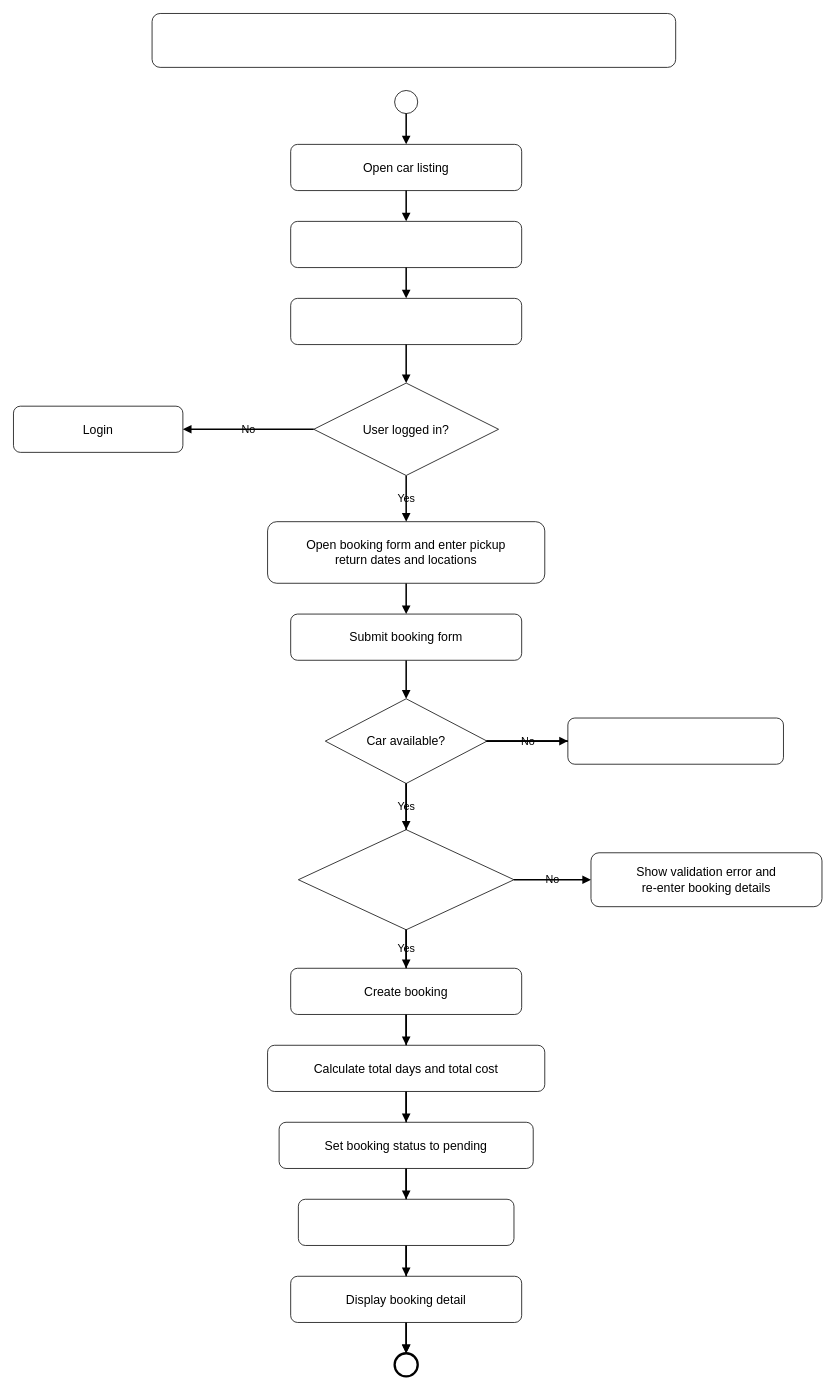
Image size: 835x1391. Some labels were removed from this diagram. The shapes that lost their labels are listed below. From the top down, each one's centre as x and y in pixels, then its label:
At (x=413, y=40): "DriveEase Car Rental System Activity Diagram for Booking Process".
At (x=406, y=244): "Apply filters and select car".
At (x=406, y=321): "View car details".
At (x=675, y=740): "Show unavailable message".
At (x=406, y=879): "Dates valid and no overlapping booking?".
At (x=406, y=1222): "Mark car unavailable".
